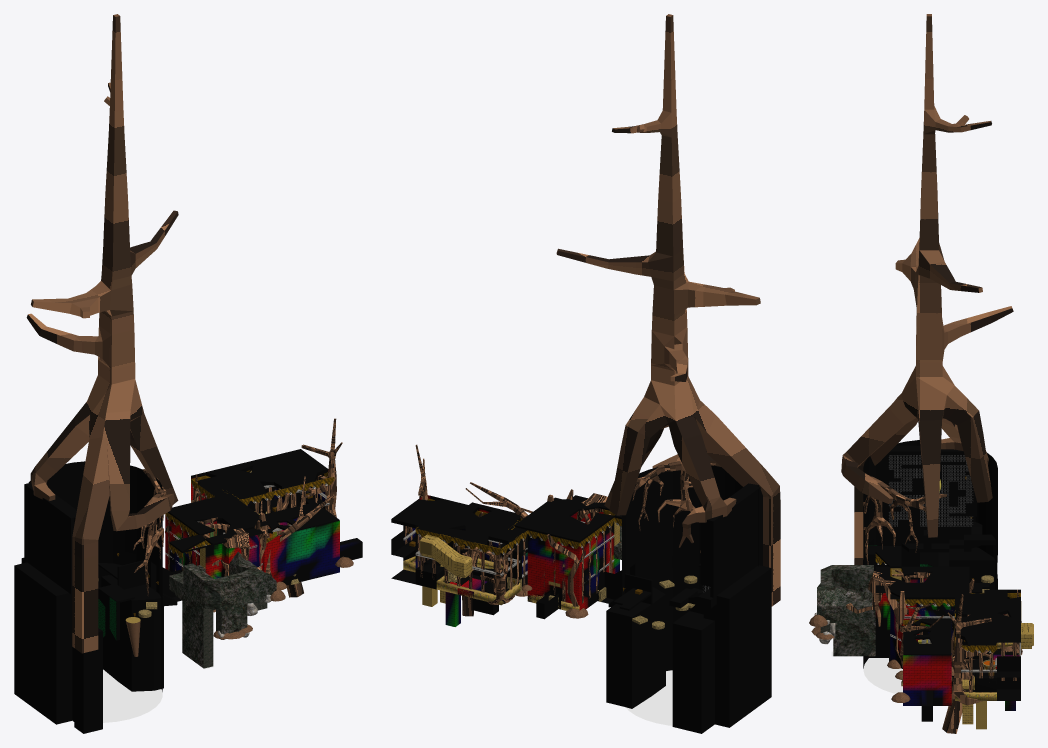
Rendered from temple.glb.
3 renders of one model, left to right at view 1: azimuth 30°, elevation 25°; view 2: azimuth 150°, elevation 25°; view 3: azimuth 270°, elevation 25°, orthographic.
Visible parts, largest first — view 1: Vert.098, maze maze1-col, maze feature1-col, maze walls-col, center wall1 retopo-col, entry walls outside-col, maze wall1-col, spin ceiling-col.001, center walls-col.001, center walls-col, maze anotherplat-col, maze lava-hazard (+10 smaller); view 2: Vert.098, maze walls-col, maze maze1-col, maze feature1-col, maze feature2_R1-col, center walls-col, maze wall1-col, spin ceiling-col.001, center walls-col.001, maze tree-col, spin side room -col, maze lava-hazard (+6 smaller); view 3: Vert.098, spin ceiling-col.001, center walls-col.001, entry walls outside-col, maze bars1-passthru, maze wall1-col, maze walls-col, maze maze1-col, center walls-col, center wall3 retopo-col, center wall1 retopo-col, entry ceiling-col (+17 smaller).
Part boxes in pixels (left/top/right/bottom): Vert.098: left=26, top=14, right=178, bottom=653; maze maze1-col: left=14, top=562, right=72, bottom=724; maze feature1-col: left=98, top=560, right=181, bottom=691; maze walls-col: left=26, top=461, right=182, bottom=691; center wall1 retopo-col: left=182, top=566, right=276, bottom=668; entry walls outside-col: left=263, top=521, right=362, bottom=585; maze wall1-col: left=24, top=483, right=74, bottom=594; spin ceiling-col.001: left=197, top=449, right=327, bottom=499; center walls-col.001: left=168, top=493, right=269, bottom=552; center walls-col: left=165, top=514, right=263, bottom=578; maze anotherplat-col: left=74, top=628, right=102, bottom=733; maze lava-hazard: left=71, top=669, right=162, bottom=722; Vert.098: left=556, top=14, right=780, bottom=606; maze walls-col: left=599, top=465, right=758, bottom=670; maze maze1-col: left=703, top=565, right=771, bottom=727; maze feature1-col: left=601, top=573, right=665, bottom=708; maze feature2_R1-col: left=672, top=604, right=714, bottom=733; center walls-col: left=507, top=512, right=619, bottom=619; maze wall1-col: left=710, top=486, right=760, bottom=597; spin ceiling-col.001: left=391, top=499, right=527, bottom=545; center walls-col.001: left=514, top=495, right=621, bottom=542; maze tree-col: left=632, top=461, right=715, bottom=552; spin side room -col: left=419, top=534, right=472, bottom=577; maze lava-hazard: left=626, top=670, right=715, bottom=725; Vert.098: left=841, top=14, right=1013, bottom=564; spin ceiling-col.001: left=955, top=589, right=1020, bottom=645; center walls-col.001: left=875, top=551, right=969, bottom=599; entry walls outside-col: left=903, top=619, right=951, bottom=721; maze bars1-passthru: left=889, top=455, right=973, bottom=526; maze wall1-col: left=888, top=445, right=975, bottom=521; maze walls-col: left=863, top=440, right=997, bottom=668; maze maze1-col: left=888, top=522, right=971, bottom=566; center walls-col: left=875, top=572, right=954, bottom=668; center wall3 retopo-col: left=831, top=569, right=875, bottom=656; center wall1 retopo-col: left=817, top=606, right=875, bottom=639; entry ceiling-col: left=903, top=618, right=951, bottom=654.
Size of what is drawn, in the model's own units: 204 by 402 by 122.
19 materials, 14 textured.
